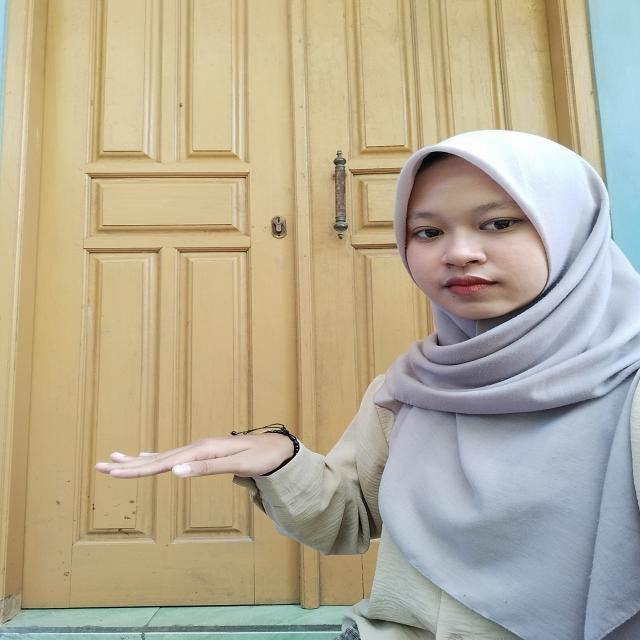adik: (57, 407, 316, 497)
